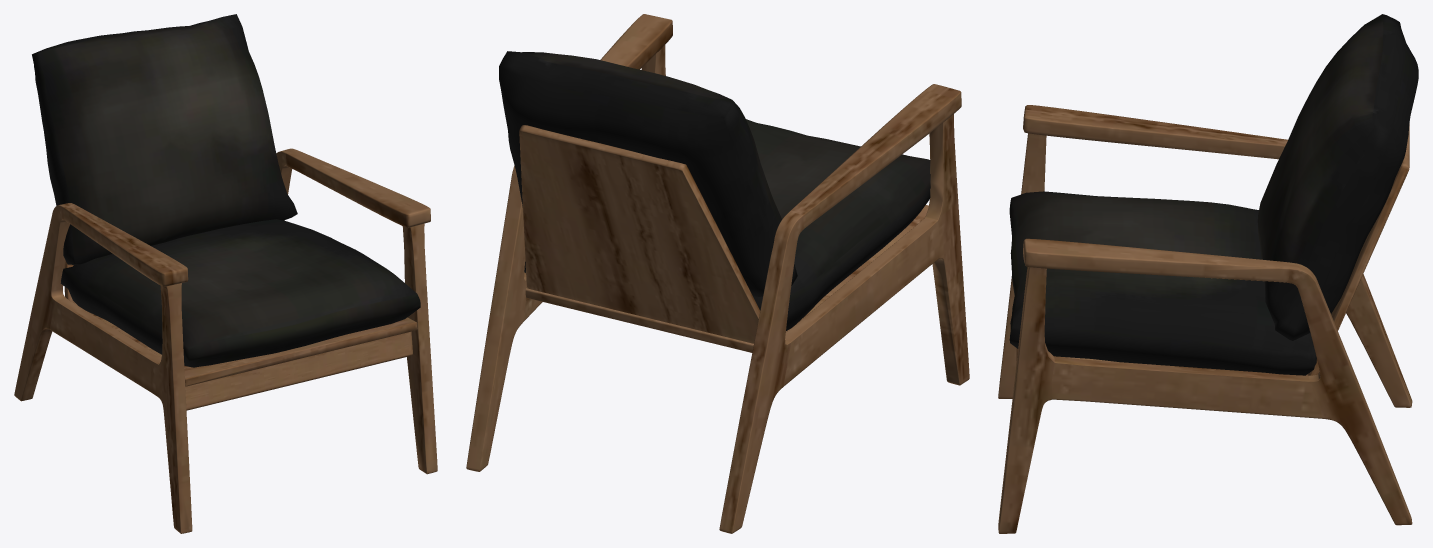
The model's file is prop-modern-arm-chair-01.glb.
The picture shows the model from 3 angles, left to right: view 1: azimuth 30°, elevation 25°; view 2: azimuth 150°, elevation 25°; view 3: azimuth 270°, elevation 25°; orthographic projection. The views are drawn at different scales.
Parts seen in each view (by area): view 1: modern_arm_chair_01; view 2: modern_arm_chair_01; view 3: modern_arm_chair_01.
Part boxes in pixels (box(x1,y1,x2,y2)): modern_arm_chair_01: box(14, 14, 437, 533); modern_arm_chair_01: box(466, 14, 969, 533); modern_arm_chair_01: box(998, 14, 1418, 533).
Bounding box in the file's own units: 0.8203 × 1.02 × 0.9865.
2 materials, 2 textured.
